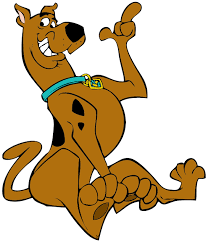scooby: (2, 2, 206, 241)
